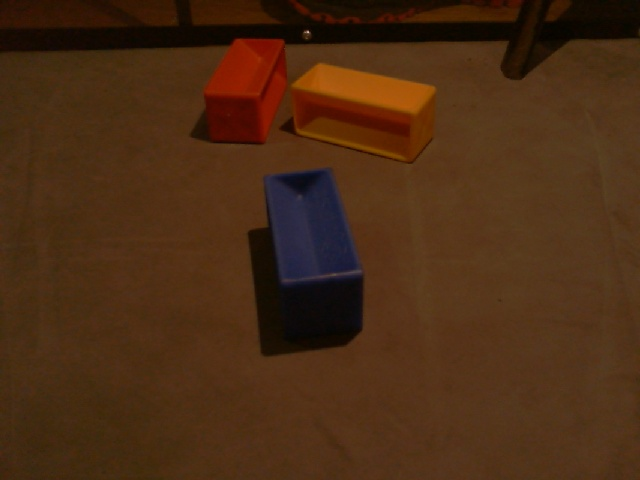BlueSample: (262, 165, 367, 340)
RedSample: (202, 35, 287, 148)
YellowSample: (288, 59, 438, 163)
